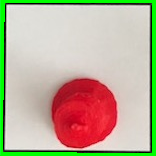Red King: (48, 73, 120, 148)
